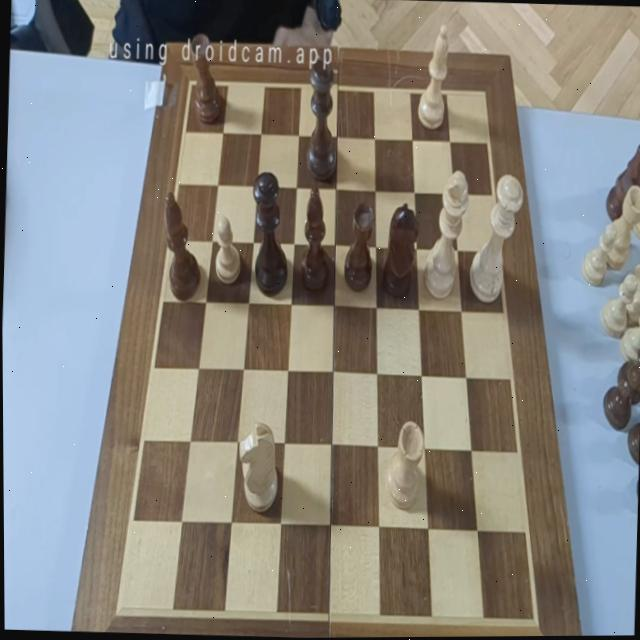black_bishop: (160, 189, 203, 303), (300, 183, 332, 296)
black_king: (305, 46, 341, 182)
black_knight: (381, 201, 420, 303)
black_queen: (249, 171, 290, 299)
black_rook: (185, 31, 227, 130), (343, 200, 375, 295)
white_bishop: (417, 23, 449, 130)
white_king: (422, 169, 469, 301)
white_knight: (235, 419, 279, 515)
white_pawn: (214, 213, 241, 284)
white_queen: (468, 173, 525, 305)
white_rook: (384, 414, 426, 512)
